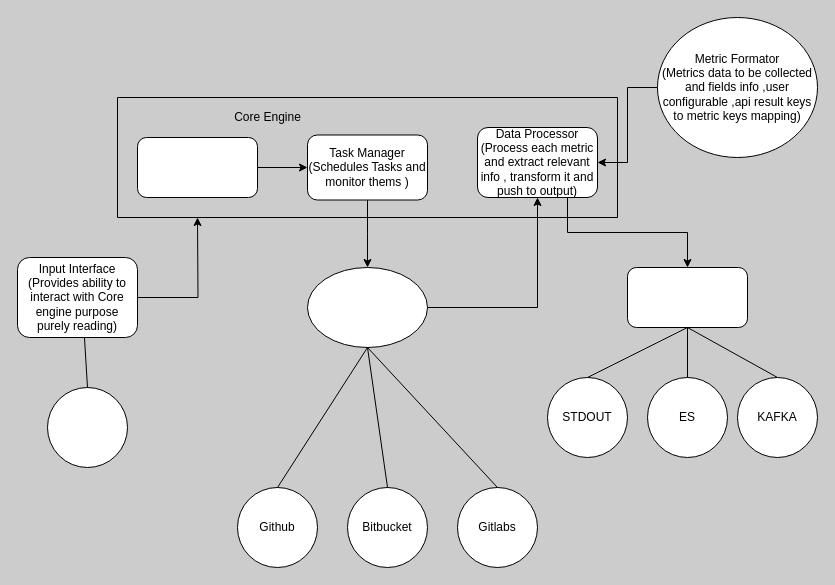
Some shapes in this 835 by 585 pixel diagram are drawn without their labels. Each missing label, with the centre of its shape:
"Config Files" belongs at (x=87, y=427).
"Configurator (Reads config for processing and creates tasks)" belongs at (x=197, y=167).
"Publisher (Pushes metrics to targets)" belongs at (x=687, y=297).
"Tasks (Process each config and pull data)" belongs at (x=367, y=307).
